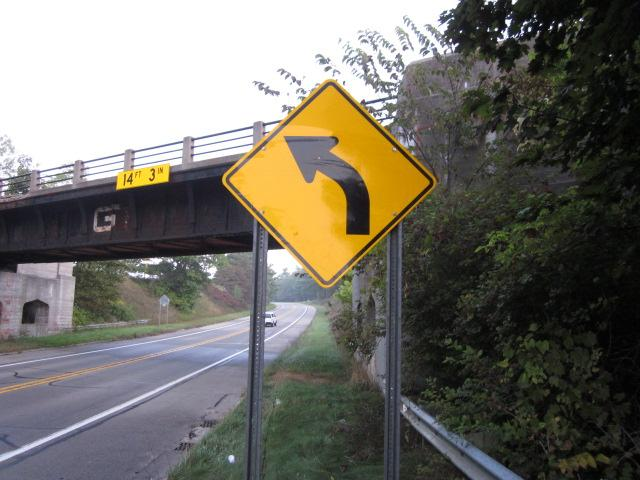warning: (219, 79, 439, 292)
